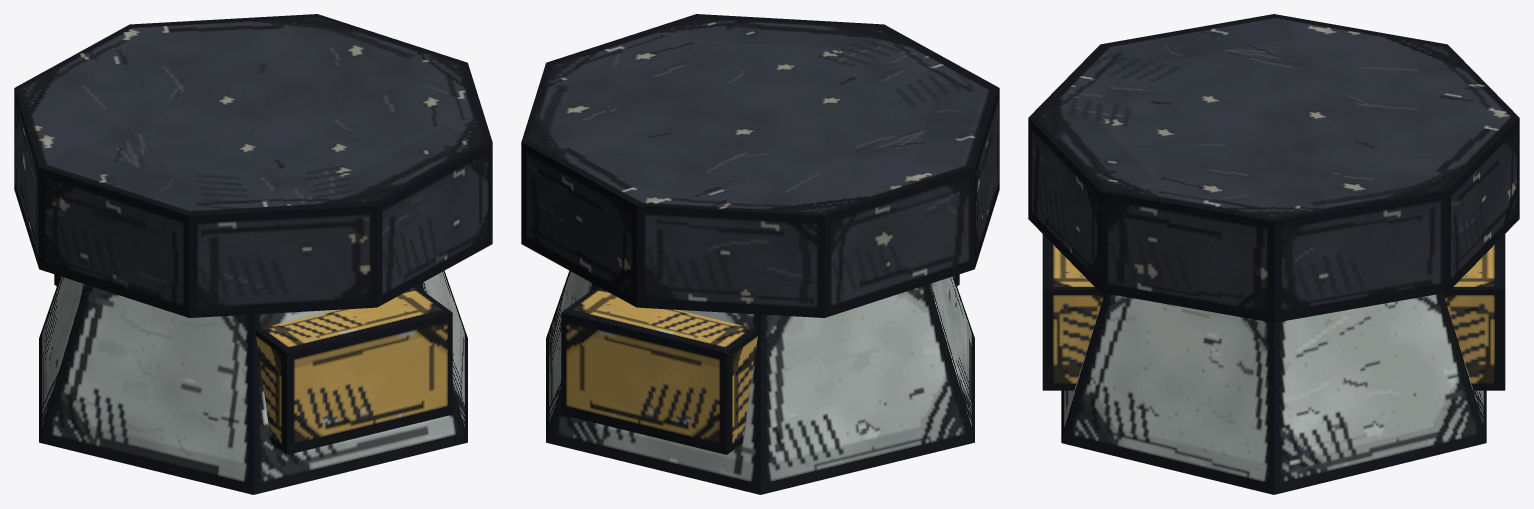
Rendered from accessory_balanced_pommel.glb.
3 views of the same model, side by side, from view 1: azimuth 30°, elevation 25°; view 2: azimuth 150°, elevation 25°; view 3: azimuth 270°, elevation 25° (orthographic).
Parts seen in each view (by area): view 1: accessory_balanced_pommel; view 2: accessory_balanced_pommel; view 3: accessory_balanced_pommel.
Part boxes in pixels (left/top/right/bottom): accessory_balanced_pommel: left=14, top=14, right=492, bottom=494; accessory_balanced_pommel: left=521, top=14, right=999, bottom=494; accessory_balanced_pommel: left=1028, top=14, right=1519, bottom=494.
Bounding box in the file's own units: 0.22 × 0.135 × 0.22.
Materials: 1 (1 with a texture image).
